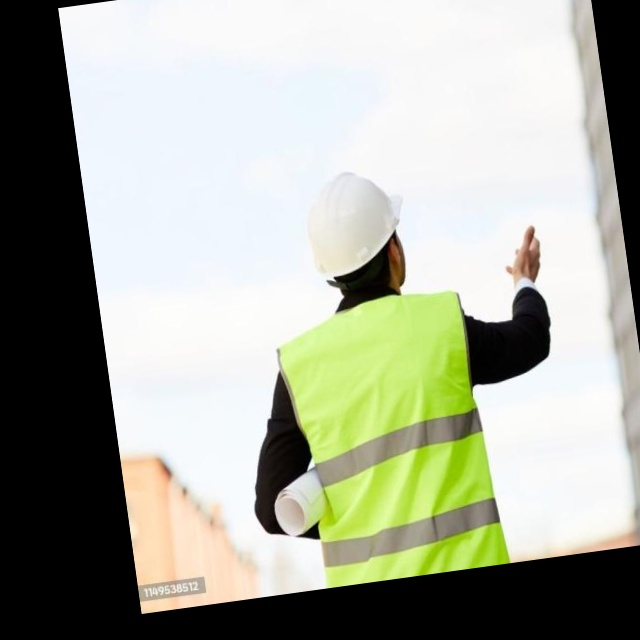Con_Casco: (298, 163, 414, 300)
Con_Chaleco: (276, 281, 509, 590)
